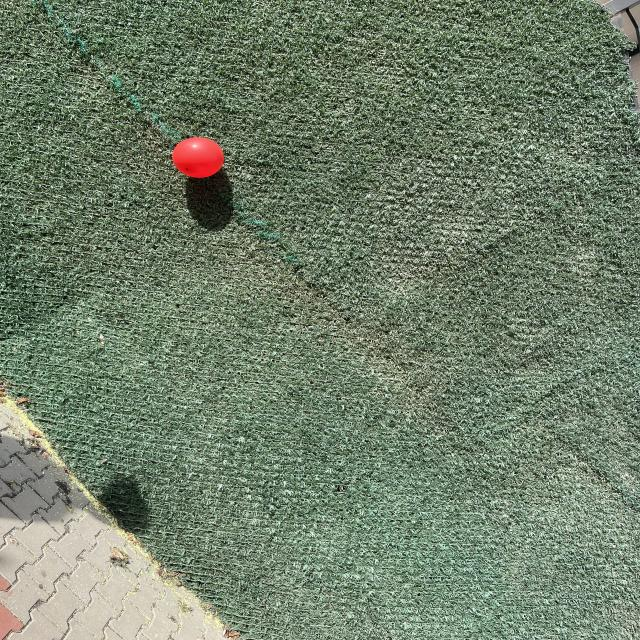balloon: (172, 138, 224, 178)
